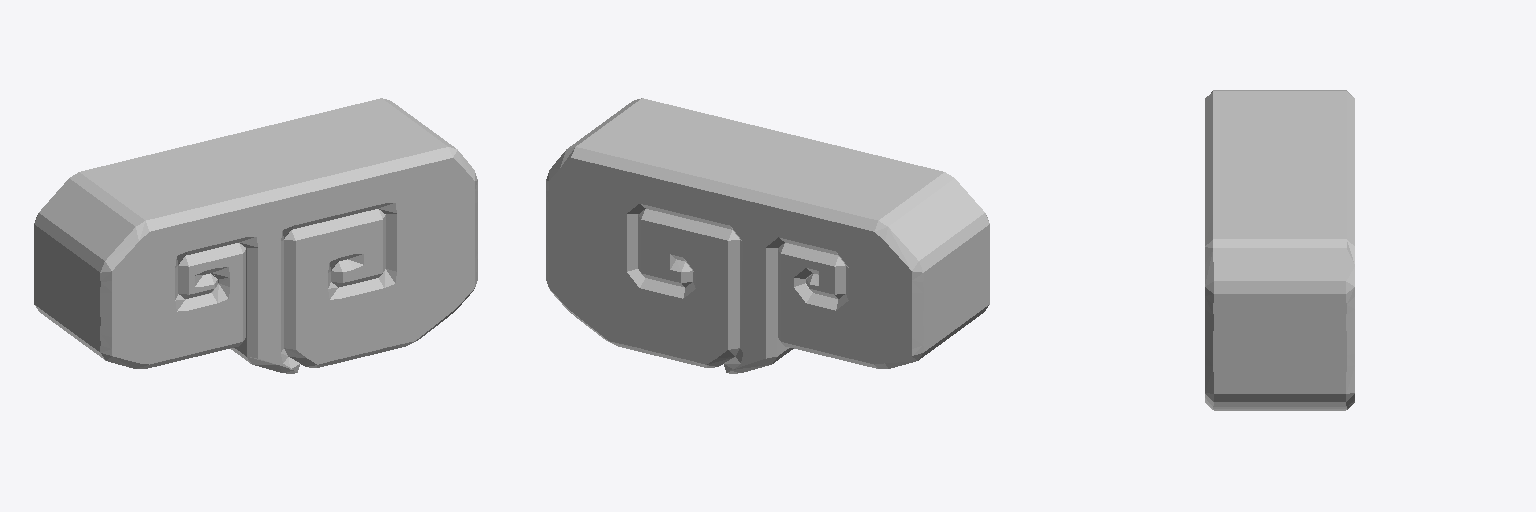
Rendered from TreeBranch_04.obj.
The picture shows the model from 3 angles: view 1: azimuth 30°, elevation 25°; view 2: azimuth 150°, elevation 25°; view 3: azimuth 270°, elevation 25°; orthographic projection.
Visible parts, largest first — view 1: Branch4; view 2: Branch4; view 3: Branch4.
Part boxes in pixels (bbox=[...]): Branch4: bbox=[34, 98, 477, 373]; Branch4: bbox=[546, 98, 989, 373]; Branch4: bbox=[1205, 90, 1354, 410].
Bounding box in the file's own units: 12.3 × 5.9 × 4.24.